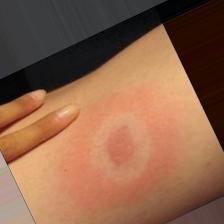Tick: (97, 113, 154, 171)
